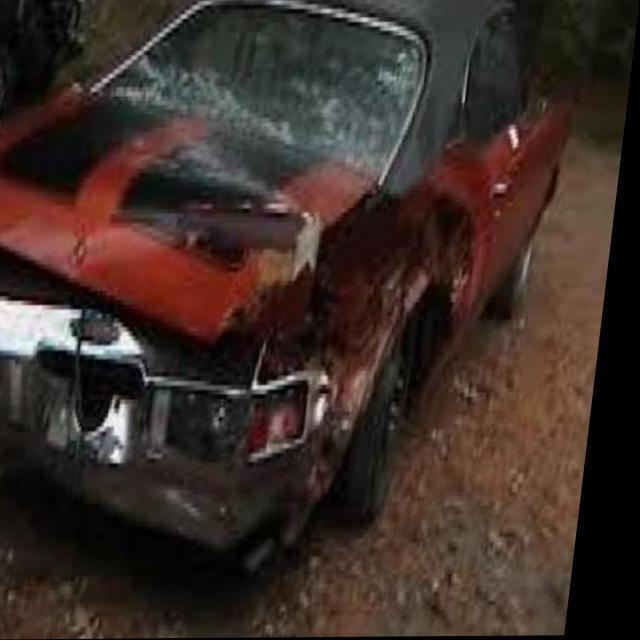dislocated part: (0, 182, 488, 574)
